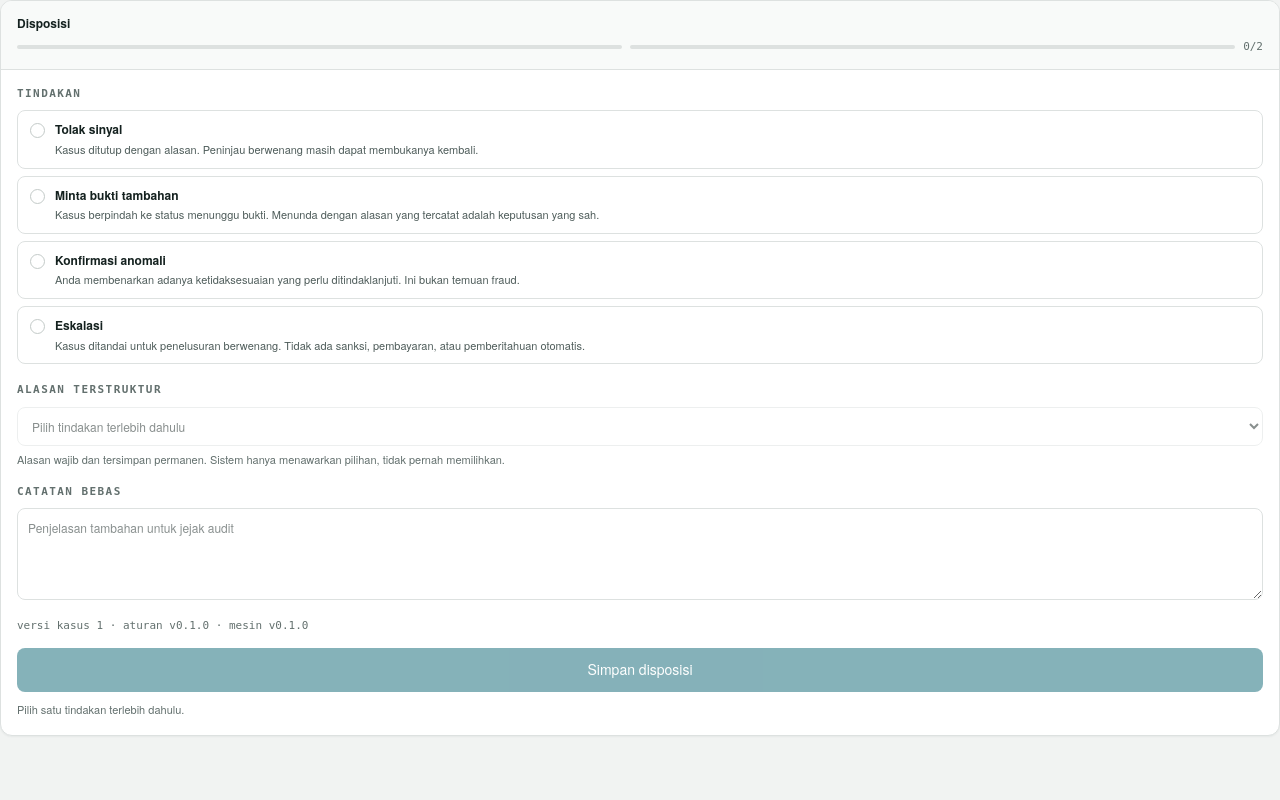
Test: save is gated on an action and a reason › enables once an action and a reason are both chosen
Click the radio button labelled "Eskalasi" at (38, 327), box [30,319,45,334]
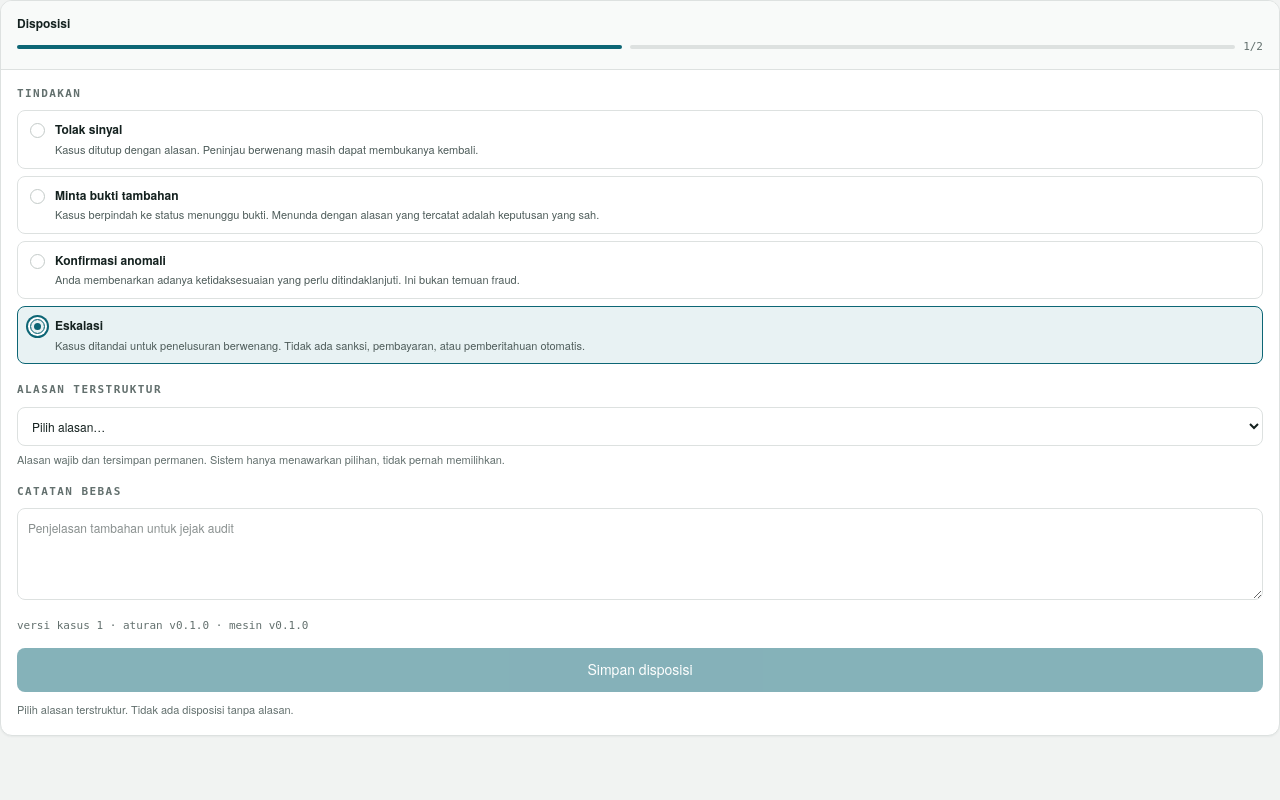
Select "Perlu penelusuran oleh unit berwenang" in the dropdown labelled "ALASAN TERSTRUKTUR" at (640, 426), box [17,407,1263,446]
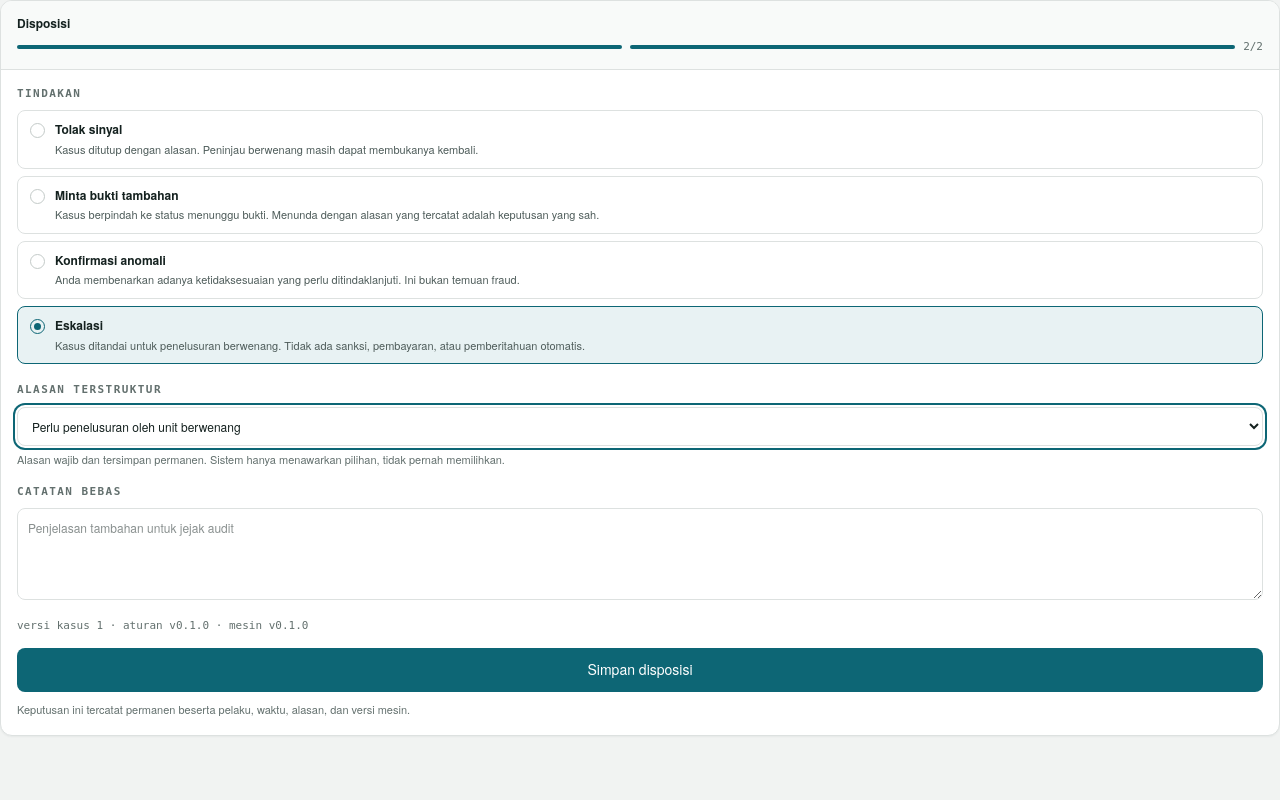
Expected: the button "Simpan disposisi" is enabled, [17,648,1263,692]
